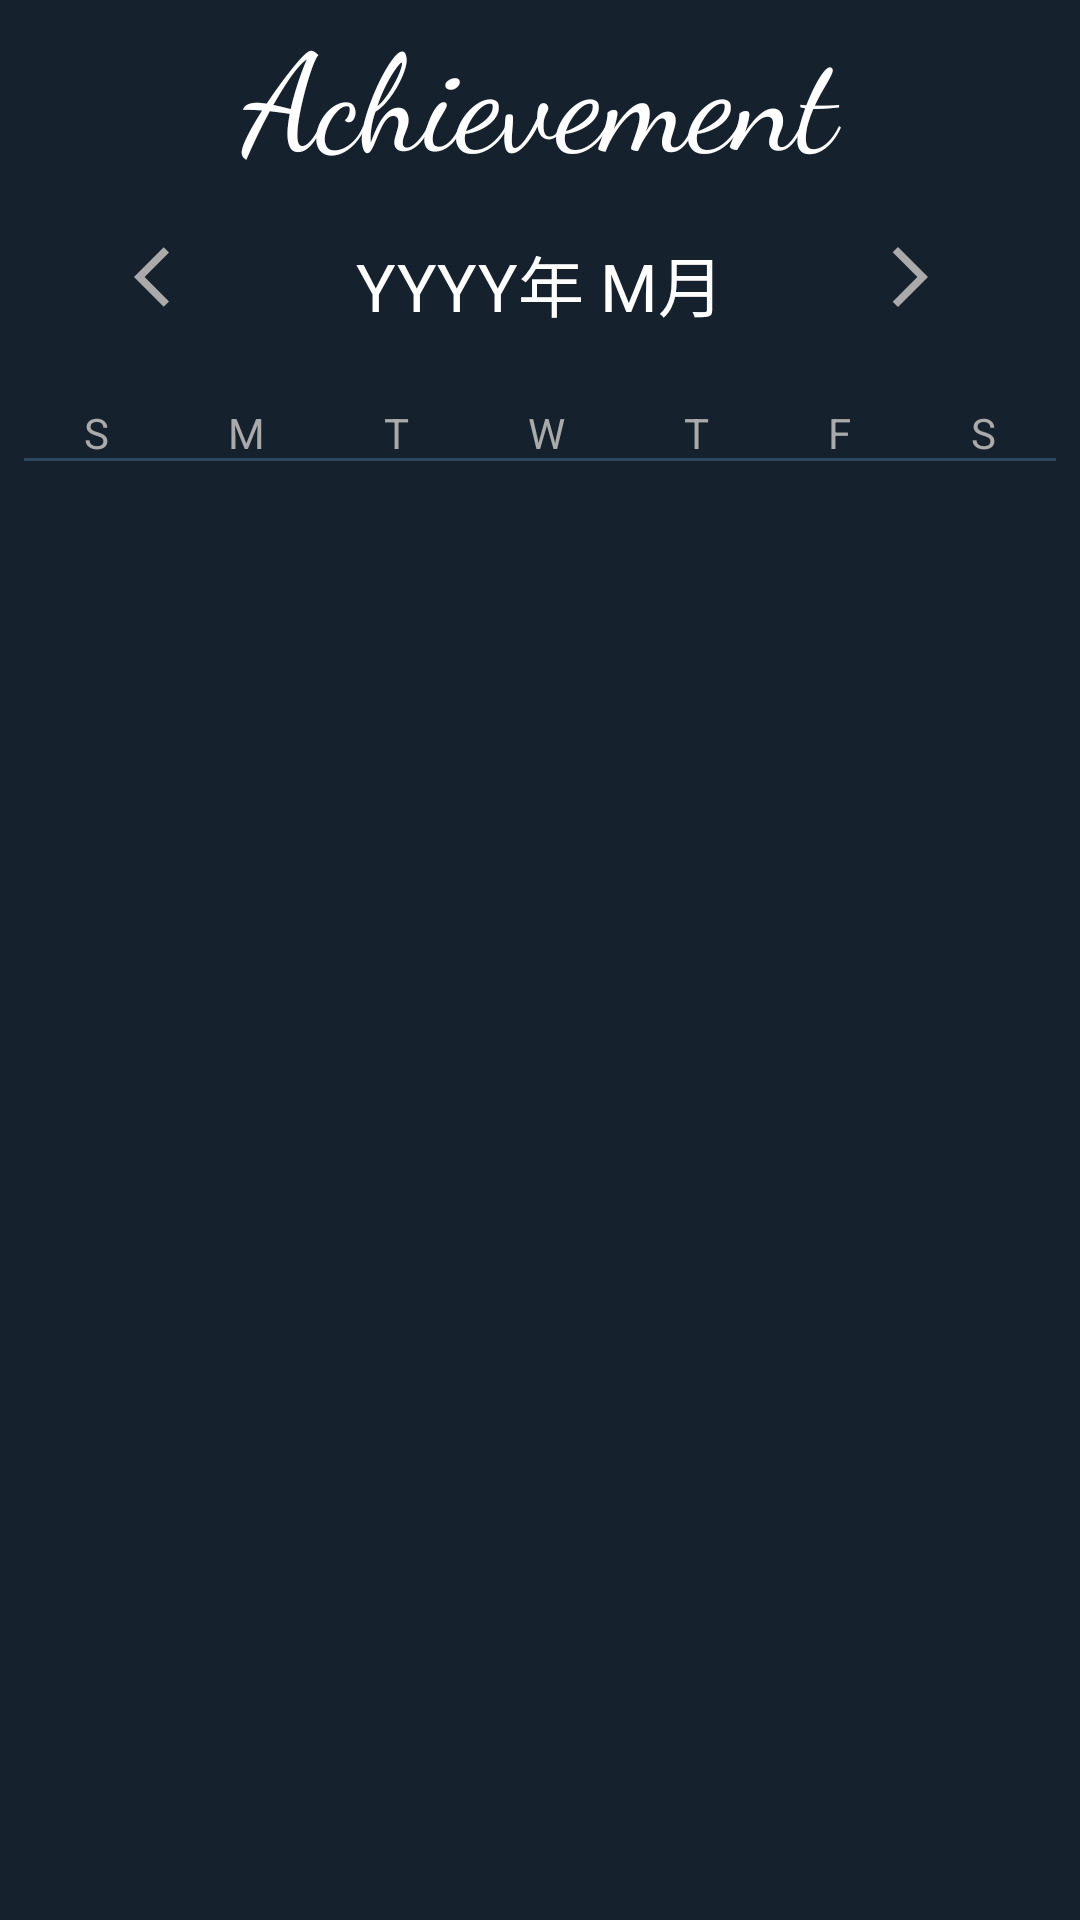

Where icons sit on this 1080px×1920px app screen, as box(x1, y1, x2, y2):
arrow back: box(134, 247, 169, 307)
arrow forward: box(893, 247, 928, 307)
